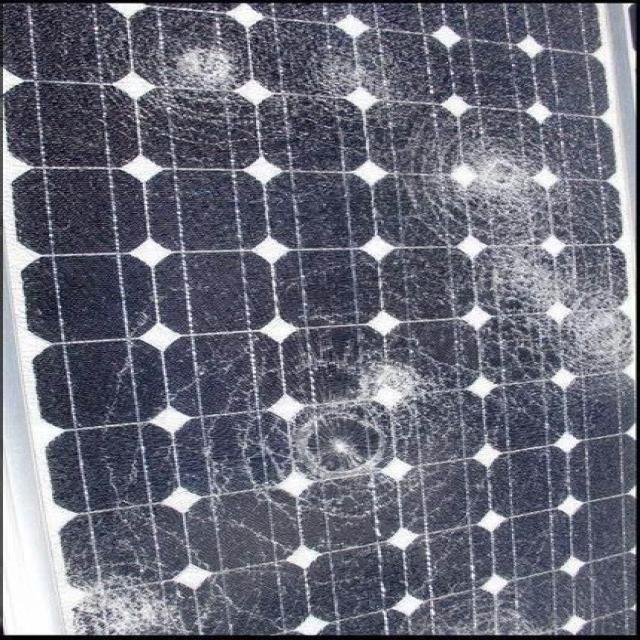cracked: (4, 1, 640, 634)
